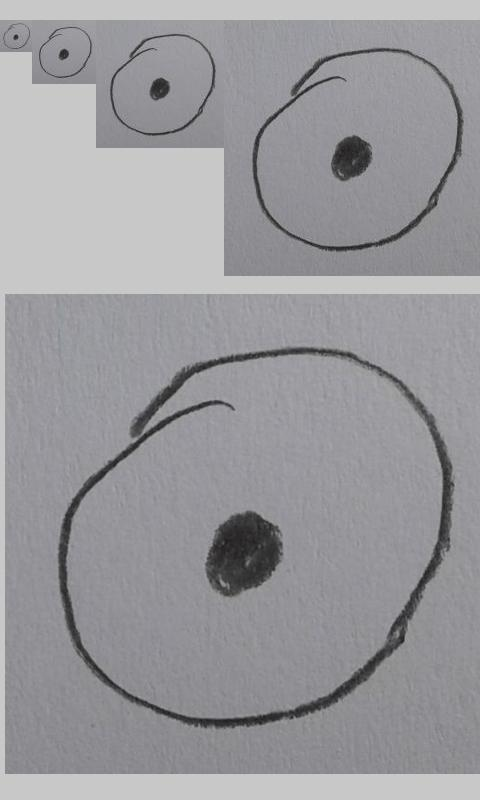radio_button: (55, 343, 456, 729), (249, 47, 464, 252), (109, 32, 216, 136), (38, 26, 92, 78), (2, 22, 31, 50)
